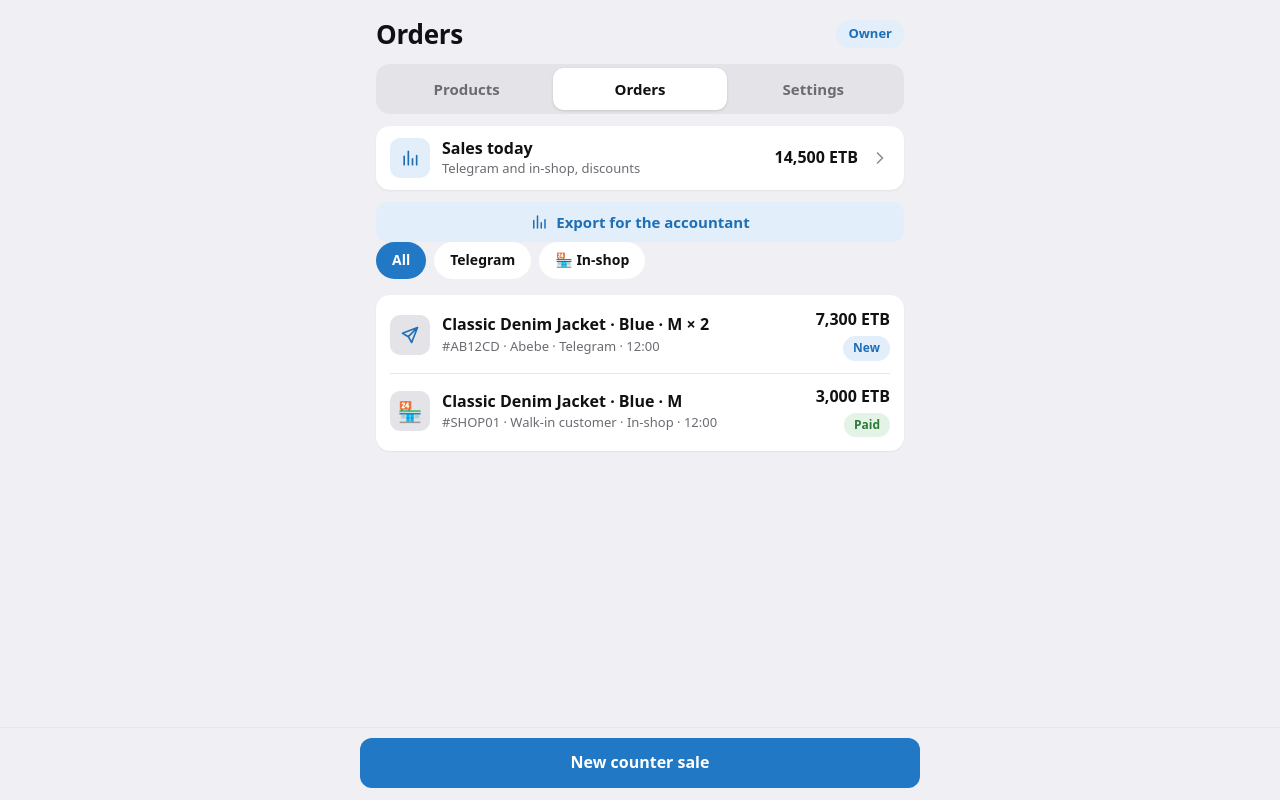
Test: Orders › shows today’s total and the orders, and opens one
Expected: the text "#AB12CD · Abebe · Telegram · 12:00" is shown, [442,337,660,355]
Expected: the text "14,500 ETB" is shown, [774,147,858,169]
Step 1. Click the text "#SHOP01 · Walk-in customer · In-shop · 12:00" → (580,422), box [442,414,717,432]
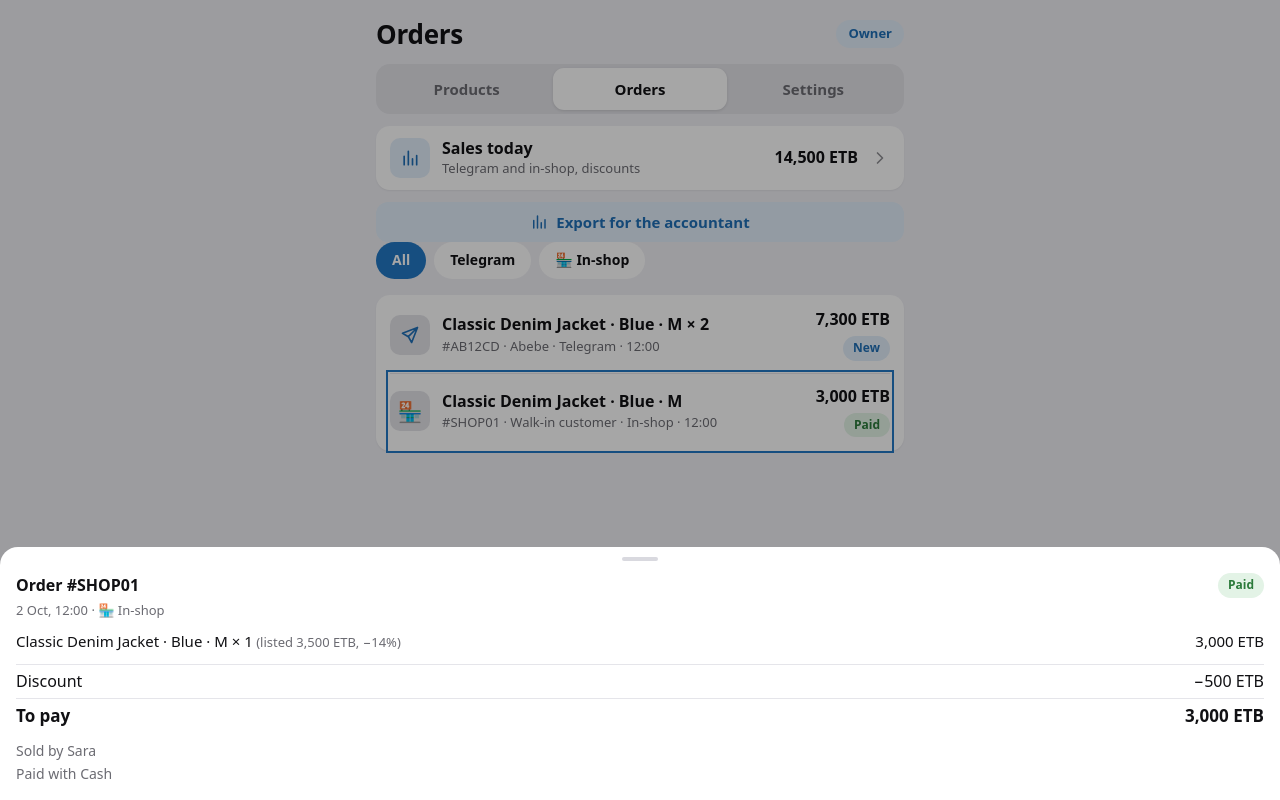
Result: the text "Sold by Sara" is shown at [16,741,96,760]
Result: the text "Paid with Cash" is shown at [16,764,112,783]
Result: the text "−500 ETB" is shown at [1194,671,1264,692]
